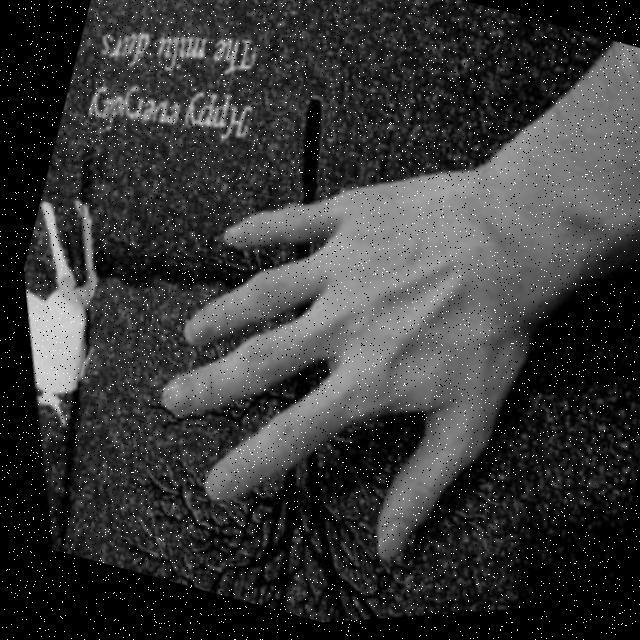no-gloves: (94, 92, 589, 606)
